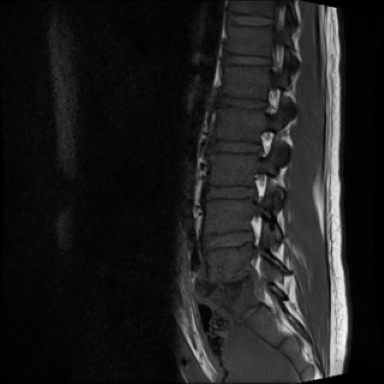Degenerative Disc Disease (DDD): (195, 263, 258, 300), (189, 176, 257, 203), (192, 134, 263, 155), (207, 89, 263, 111)
Lumbar Disc Bulge (LDB): (191, 215, 263, 255), (199, 262, 261, 300)
Normal IVD: (215, 10, 273, 29)
Spinal Stenosis (SS): (236, 213, 261, 248)
Spondylolisthesis: (196, 254, 264, 322)
Thoracic Disc Bulge (TDB): (209, 44, 270, 69)
